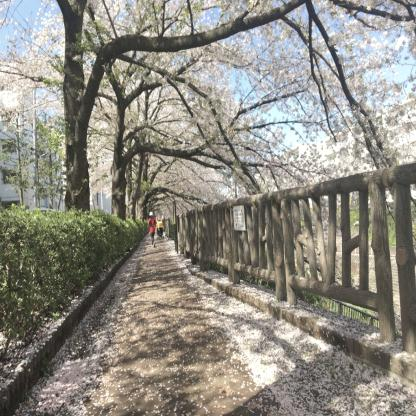Someiyoshino: (1, 0, 415, 235)
